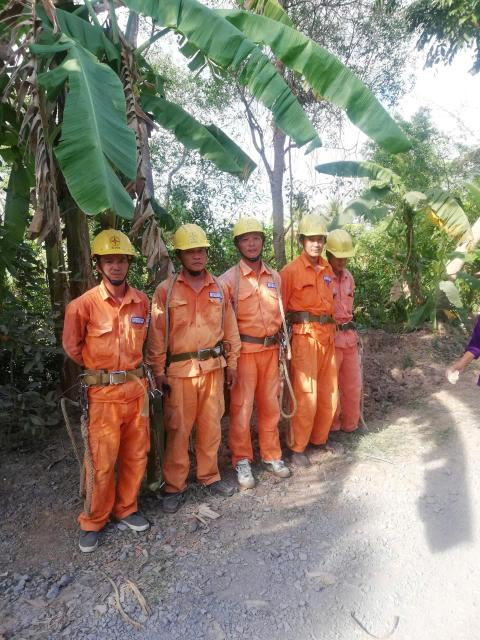harness: (75, 358, 149, 400), (163, 334, 232, 368), (232, 318, 291, 349), (289, 304, 341, 333), (327, 312, 359, 336)
helmet: (85, 219, 136, 261), (165, 219, 208, 254), (324, 221, 354, 262), (226, 211, 261, 246), (294, 207, 323, 246)
shoes: (69, 521, 103, 560), (118, 499, 148, 539), (264, 447, 293, 482), (205, 474, 238, 502), (230, 454, 255, 489), (289, 440, 311, 471), (161, 487, 182, 518)
